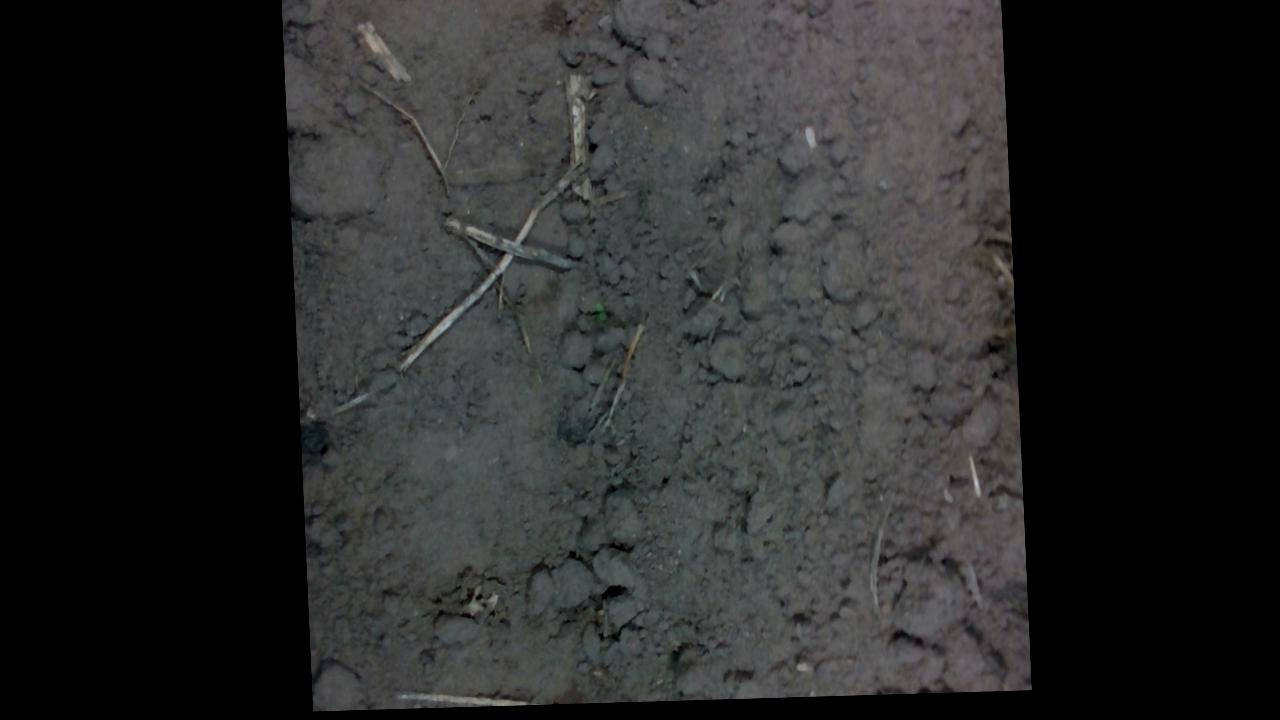weed: (591, 302, 607, 326)
